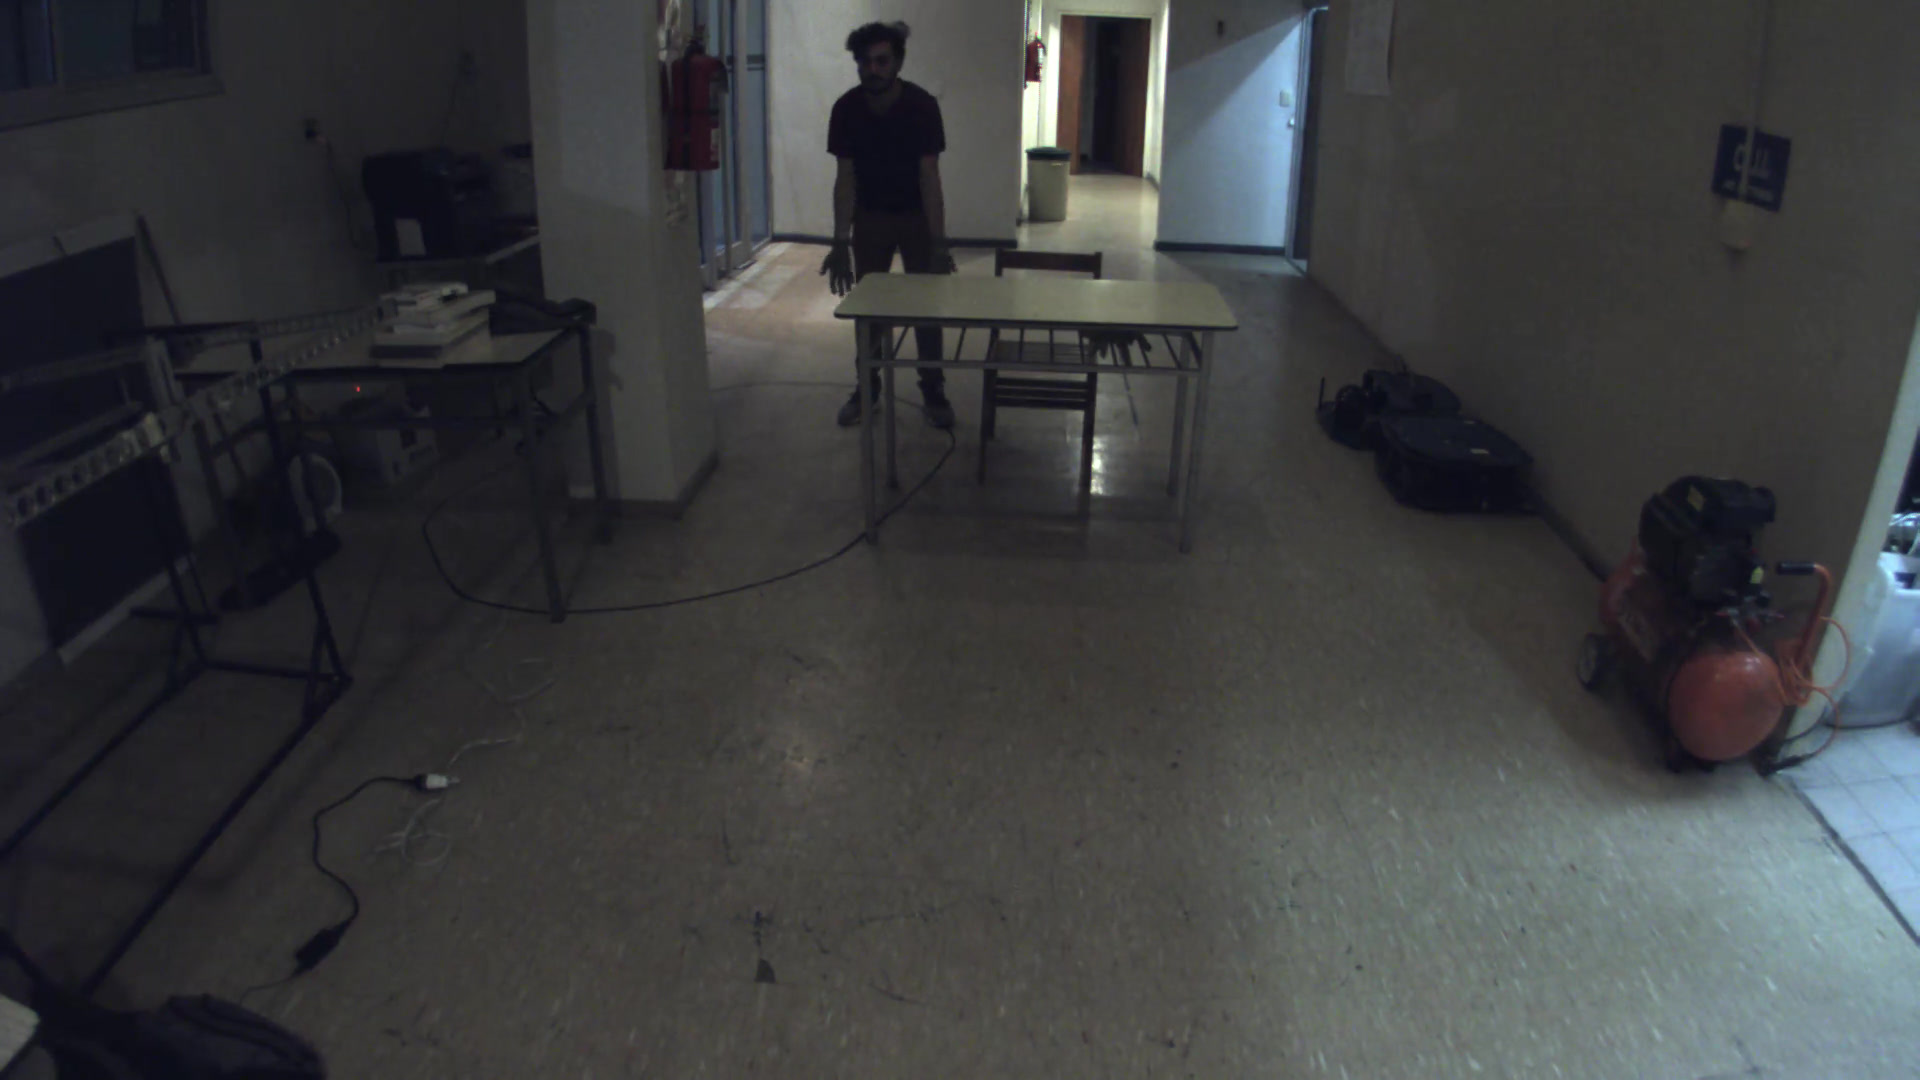hand: (815, 237, 866, 291)
